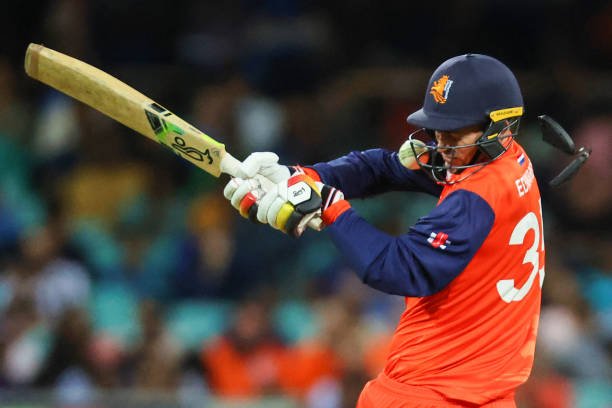bottom left: (22, 35, 50, 57)
bottom right: (12, 60, 43, 86)
top left: (207, 131, 238, 159)
top right: (201, 166, 235, 188)
